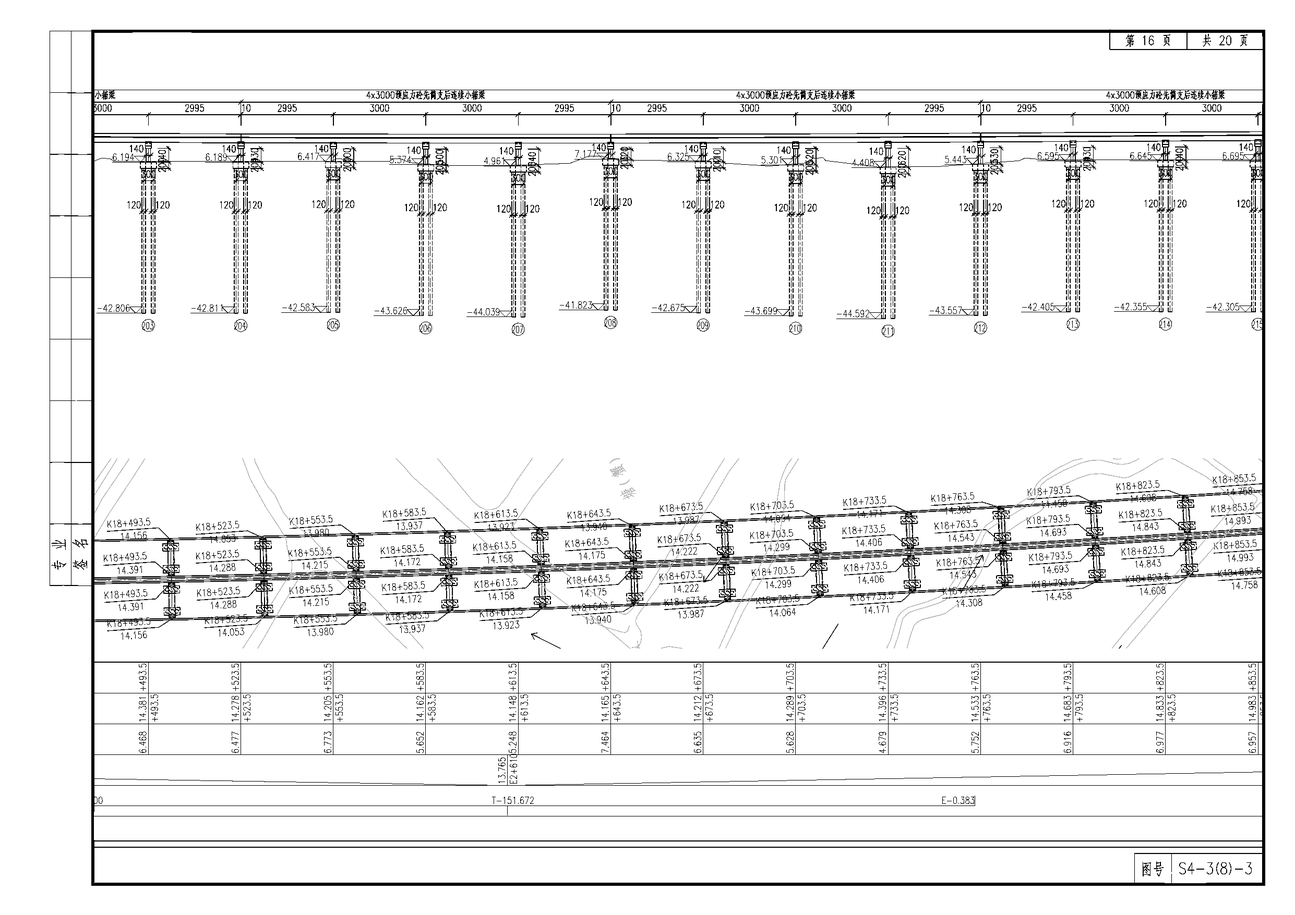A: (88, 68, 1269, 361)
